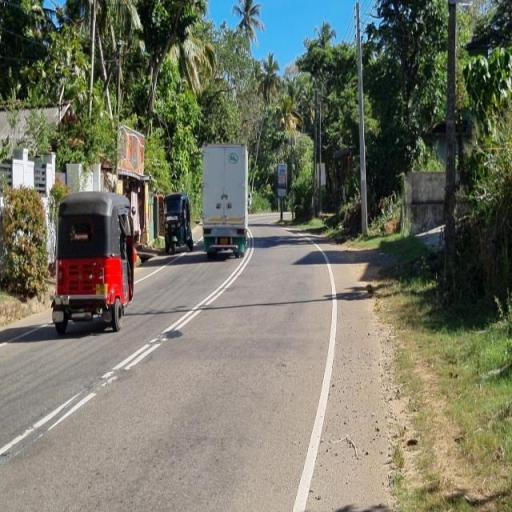double_white_line: (101, 226, 257, 388)
